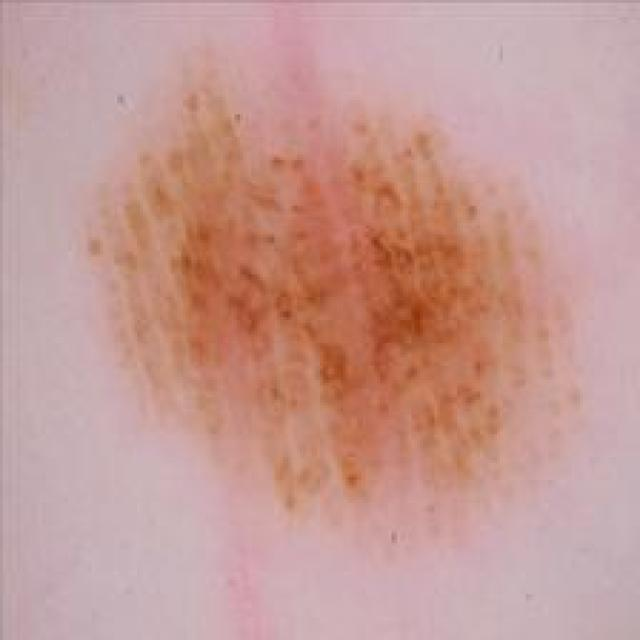Cancer: (80, 34, 583, 540)
